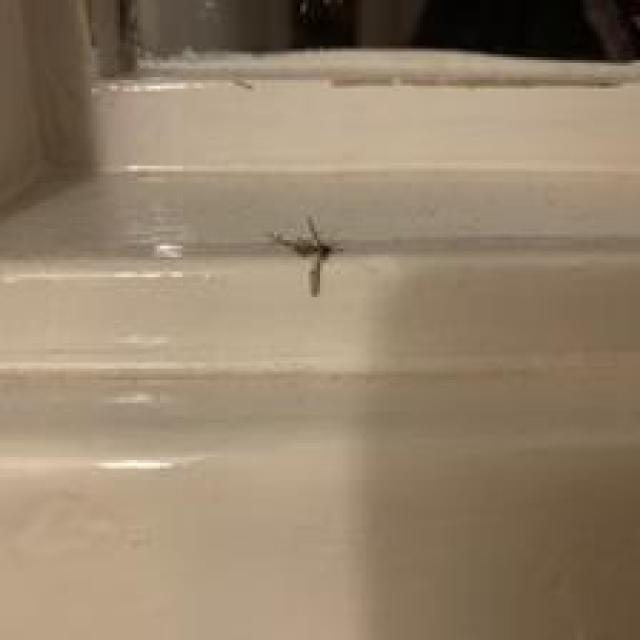Culex: (267, 214, 344, 297)
